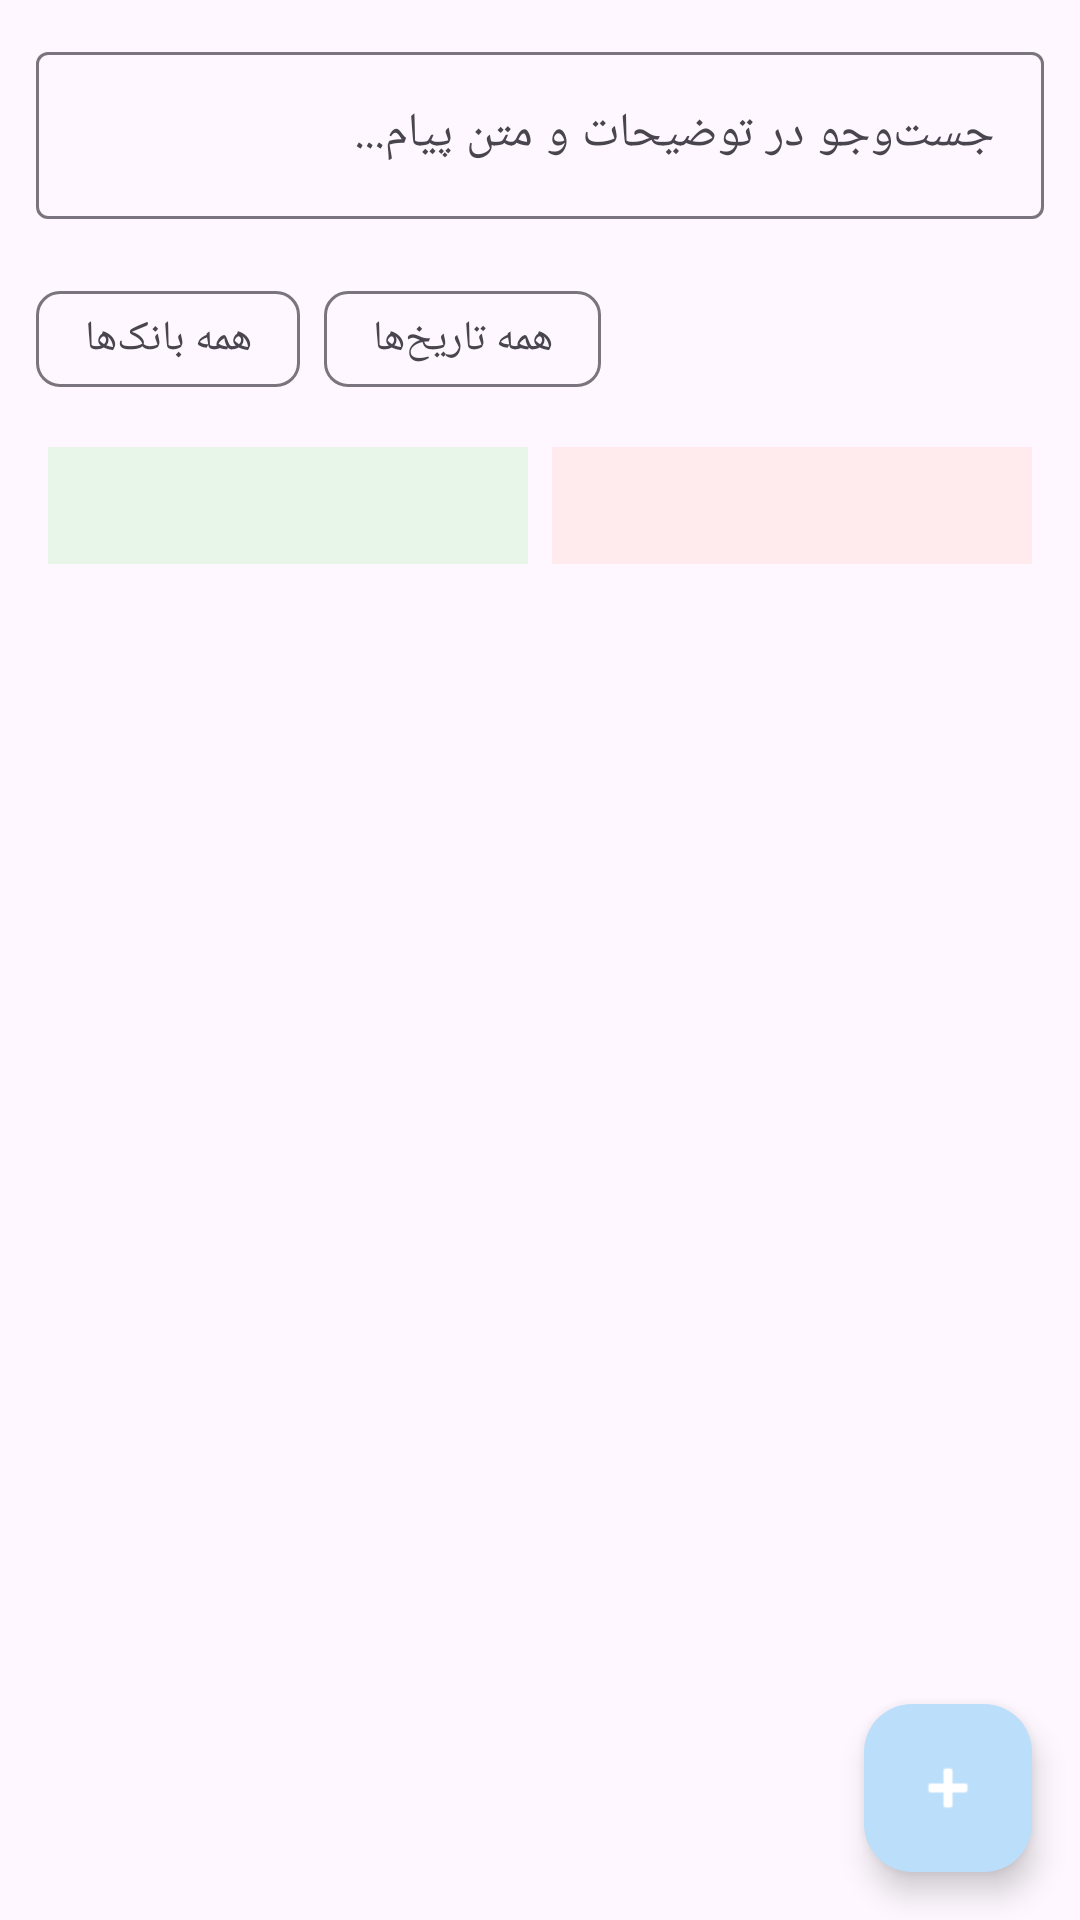

Point at icon controls on the screen. Image size 1080w x 1920h, points as [x,y].
افزودن تراکنش دستی: [948,1788]
